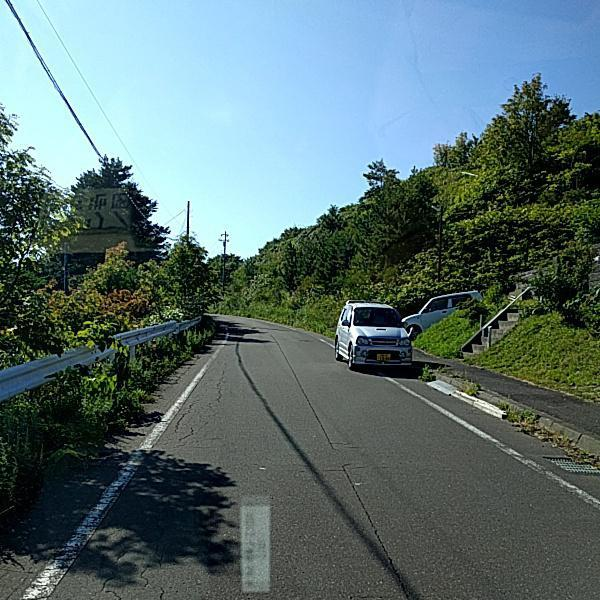D20: (101, 364, 238, 599)
D44: (23, 351, 218, 591)
